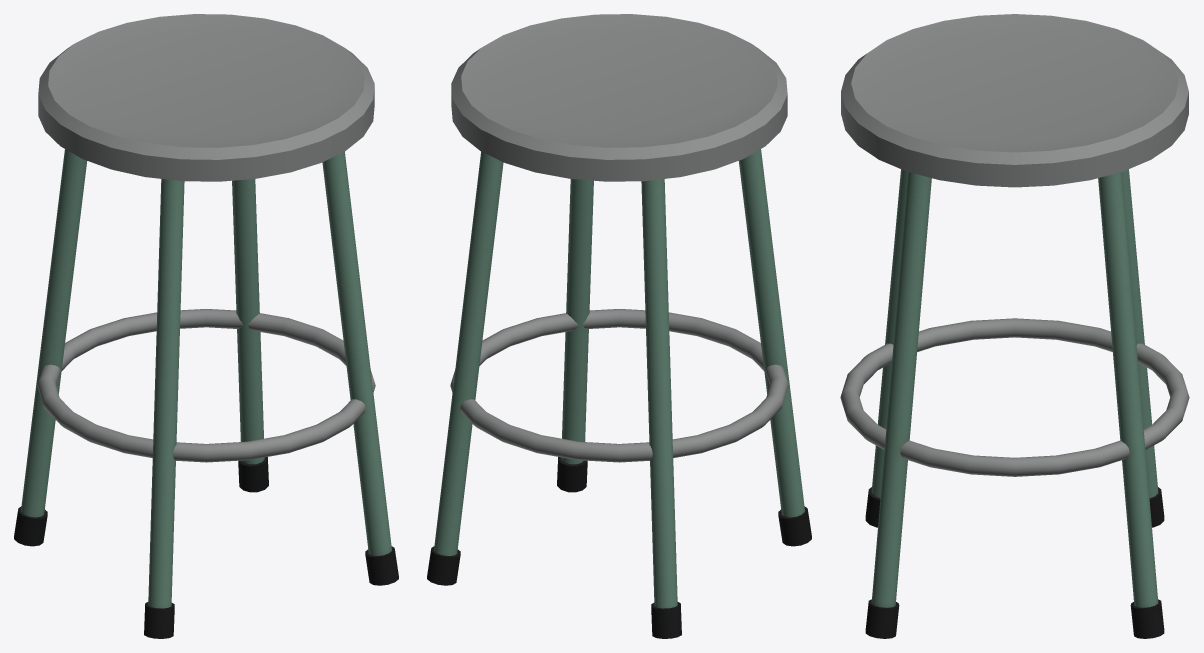
File: CTCC_LOC03_WardStool.fbx
The picture shows the model from 3 angles, left to right: view 1: azimuth 30°, elevation 25°; view 2: azimuth 150°, elevation 25°; view 3: azimuth 270°, elevation 25°; orthographic projection. The views are drawn at different scales.
Visible parts, largest first — view 1: CTCC_LOC03_WardStool_LOD0; view 2: CTCC_LOC03_WardStool_LOD0; view 3: CTCC_LOC03_WardStool_LOD0.
Part boxes in pixels (<box>): CTCC_LOC03_WardStool_LOD0: <box>14,14,398,638</box>; CTCC_LOC03_WardStool_LOD0: <box>427,14,811,638</box>; CTCC_LOC03_WardStool_LOD0: <box>840,14,1189,638</box>.
Size of what is drawn, in the model's own units: 0.309 by 0.484 by 0.309.
